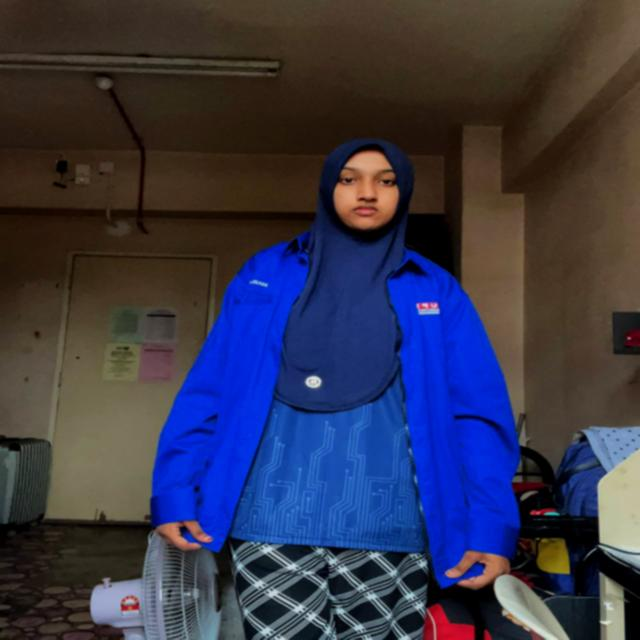person_with_labcoat: (151, 138, 519, 640)
